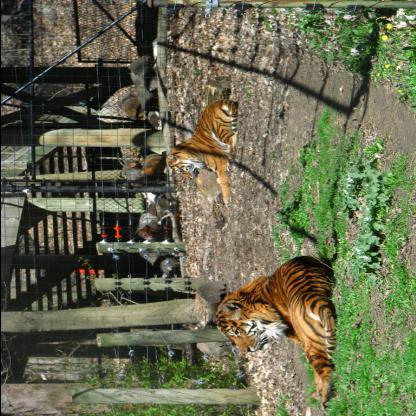tiger: (212, 313, 278, 358), (164, 150, 204, 185)
